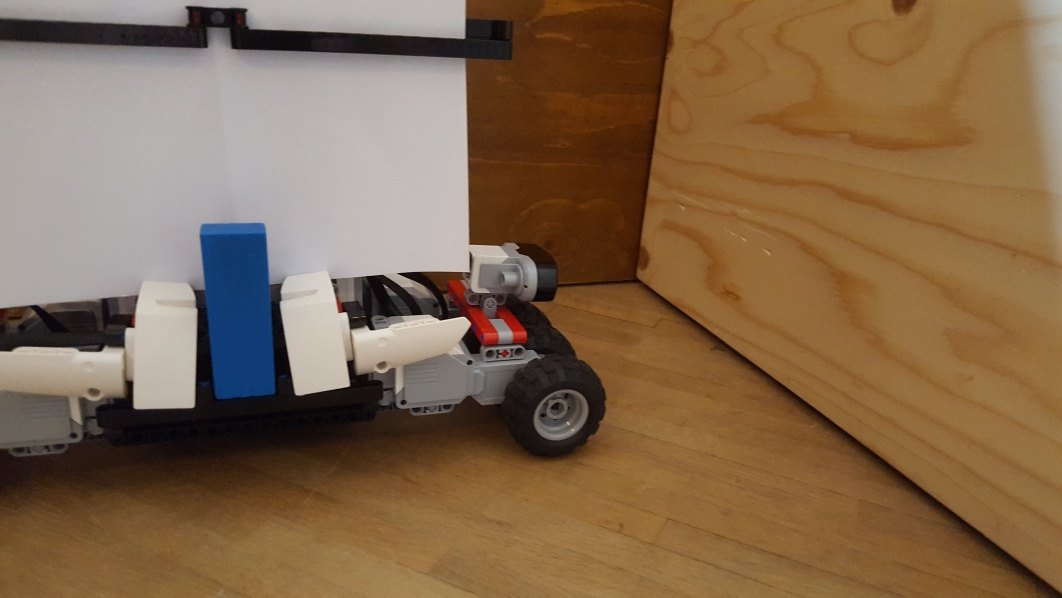car: (2, 2, 609, 462)
